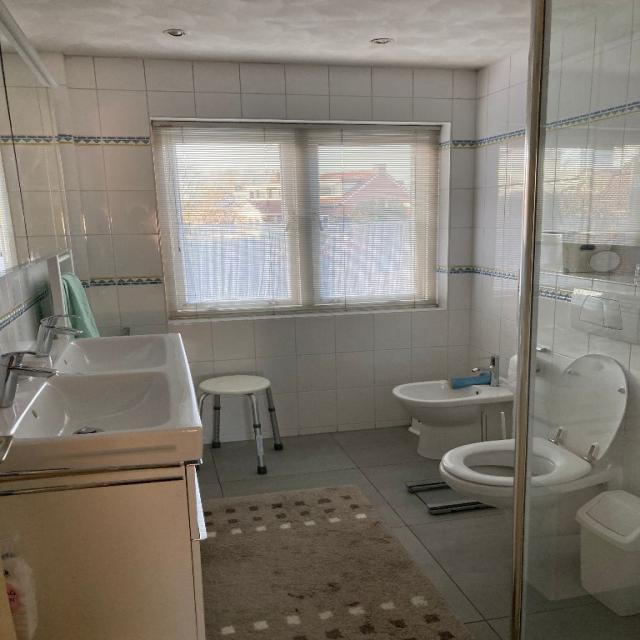douche: (507, 0, 640, 640)
toilet: (441, 286, 640, 540), (394, 354, 514, 460)
wastafel: (0, 459, 210, 640), (0, 312, 201, 442)
